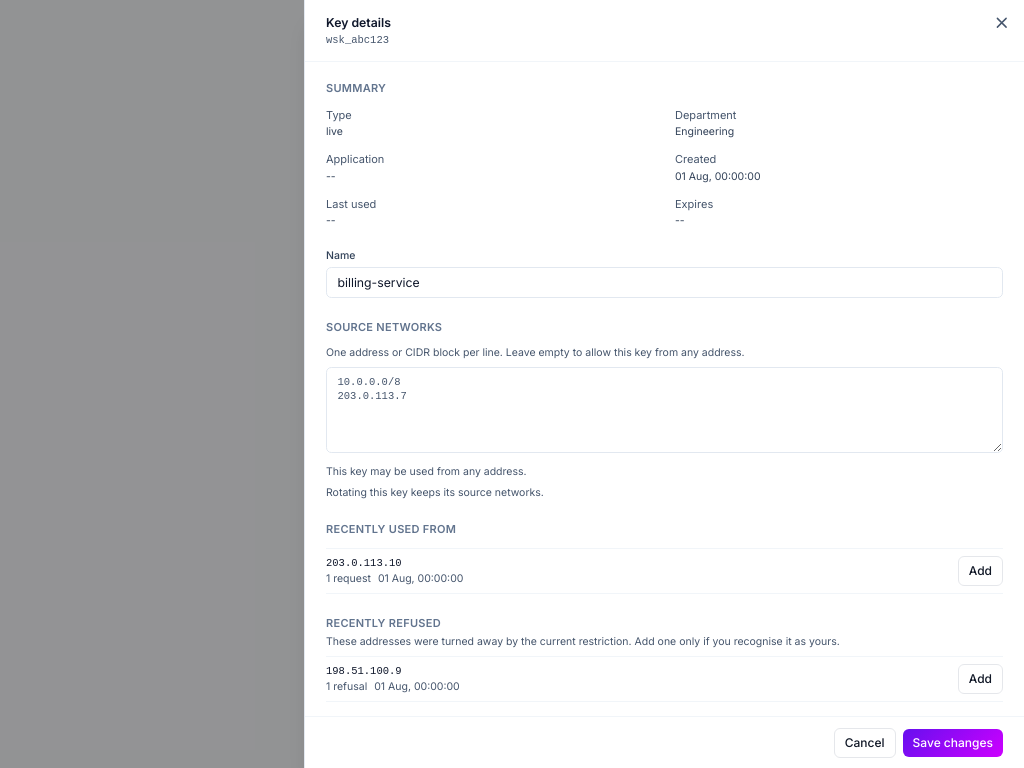
Test: KeyDetailDrawer address panels › still warns after adding a refused address that does not cover live traffic
This screenshot has width=1024, height=768.
Expected: the text "198.51.100.9" is shown, [326,665,402,677]
Click the button "Add" in the row of "198.51.100.9". click: {"x": 980, "y": 679}
box: [958,664,1003,694]
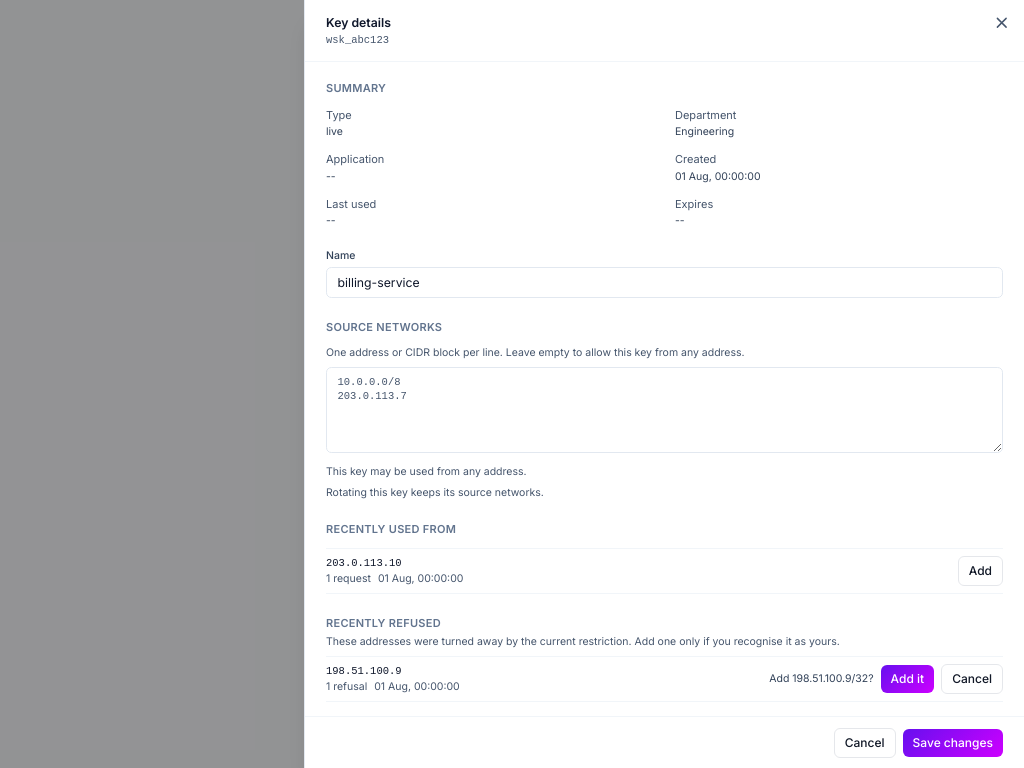
Click the button "Add it". click: {"x": 907, "y": 679}
box: [881,665,934,693]
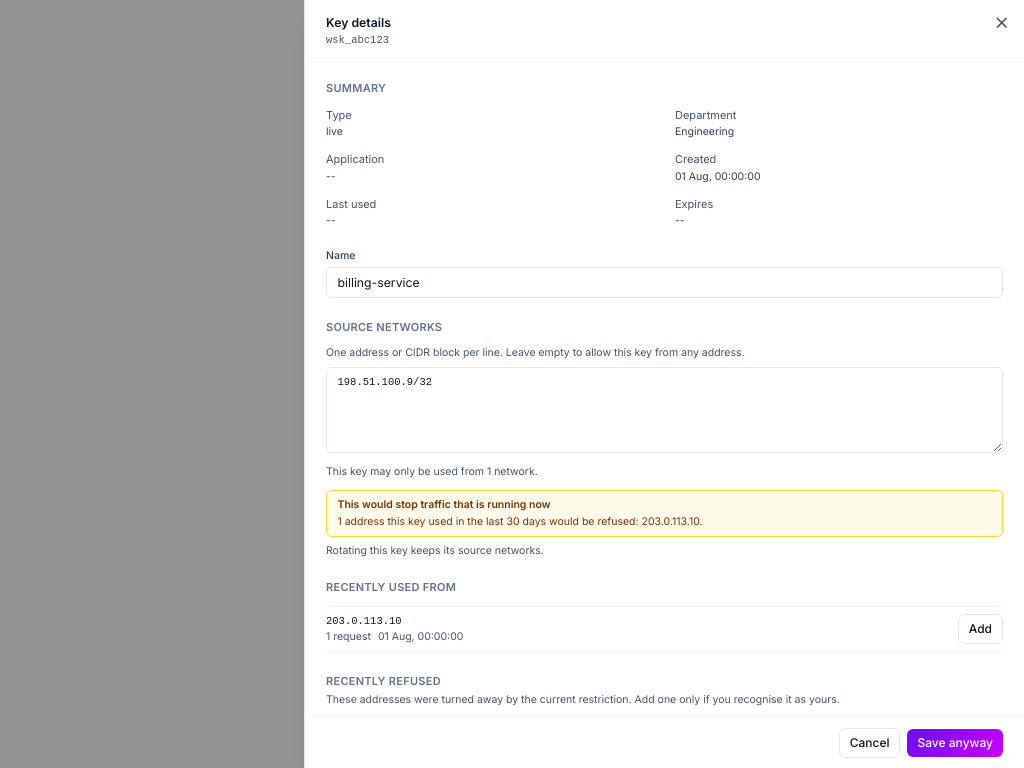
Expected: the message shows "203.0.113.10", [338,515,702,528]
